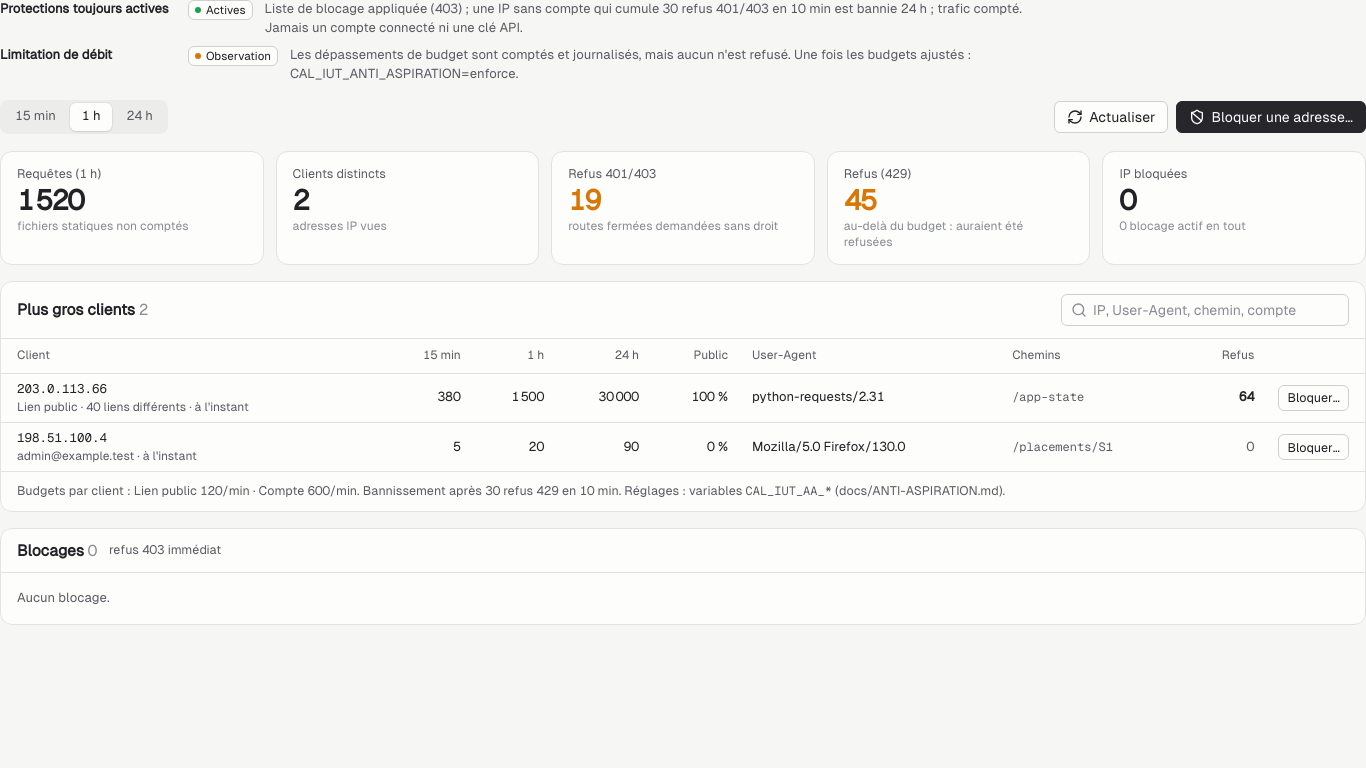
it: TraficView › bloque une IP depuis sa ligne, avec durée et motif
Expected: the text "Observation" is shown, [188,46,278,66]
Click the button with aria-label "Bloquer 203.0.113.66…". click: (1314, 398)
box: [1278,385,1349,411]
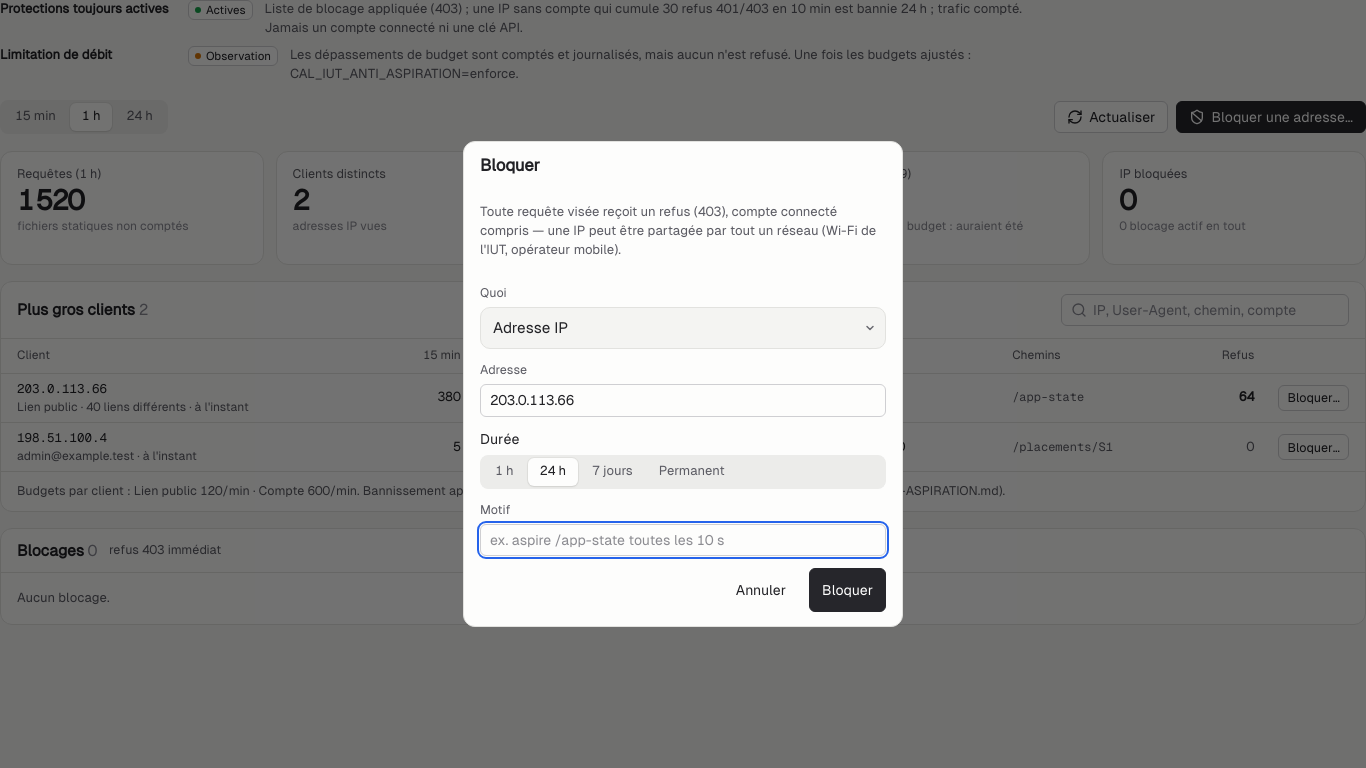
Expected: the field showing "203.0.113.66" is shown, [480,384,886,416]
Click the radio button labelled "7 jours". click: (612, 472)
box: [580,458,645,486]
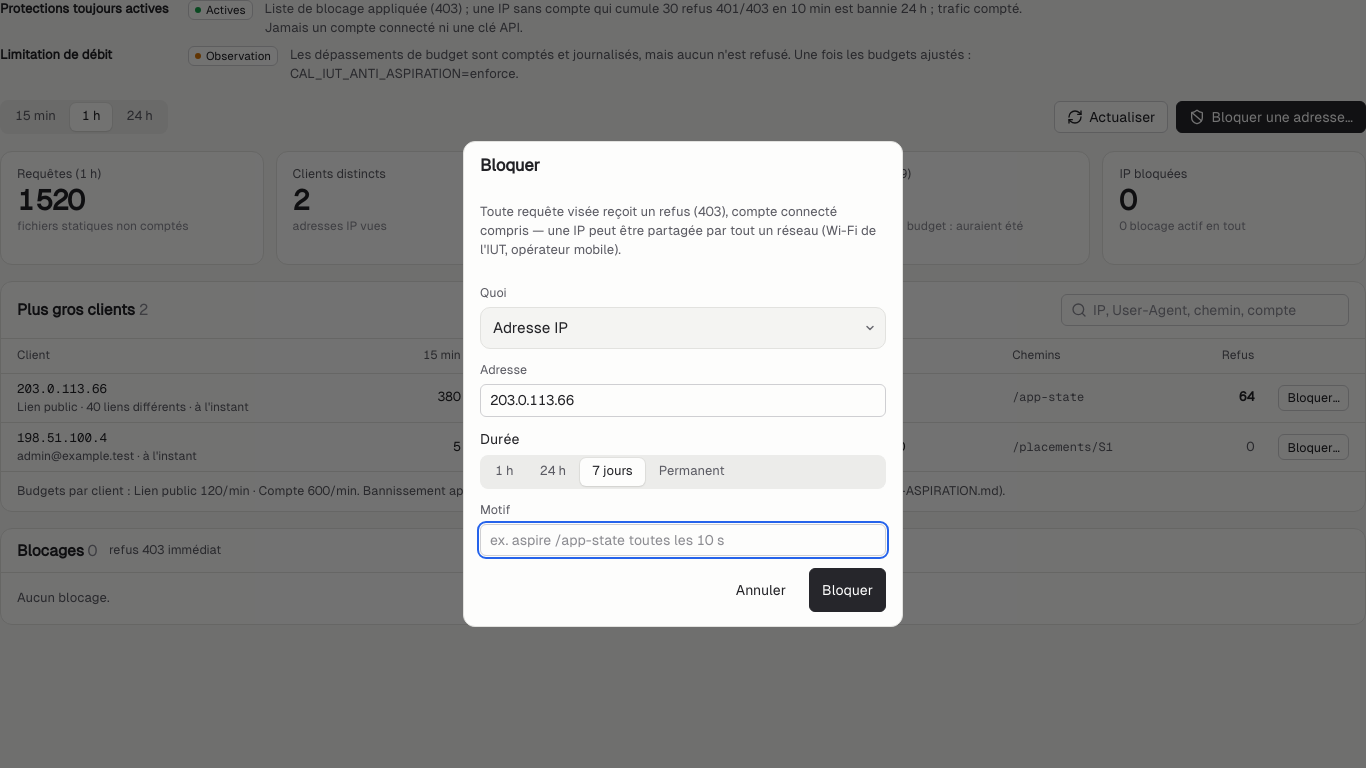
Type "aspire /app-state" into the field labelled "Motif". click: (683, 540)
box: [480,524,886,556]
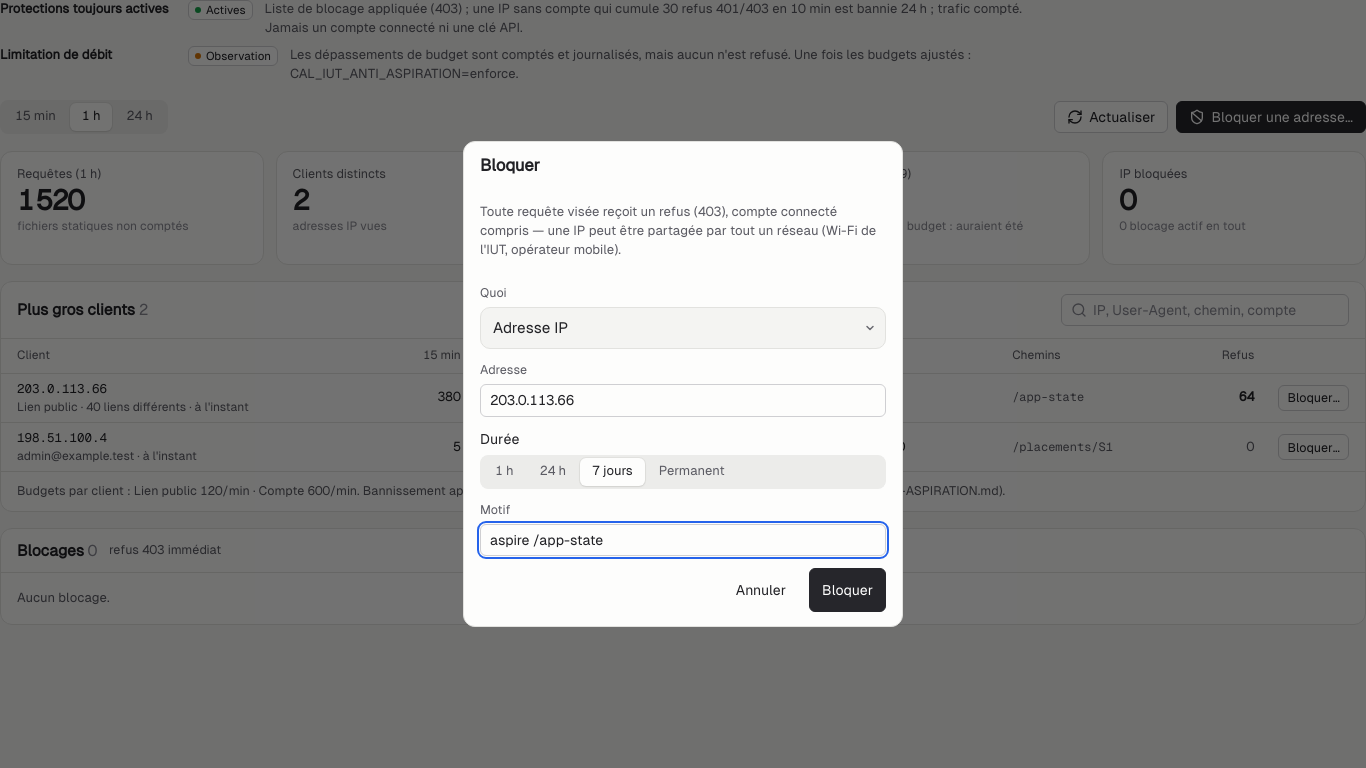
Click the button "Bloquer". click: (848, 590)
box: [809,568,886,612]
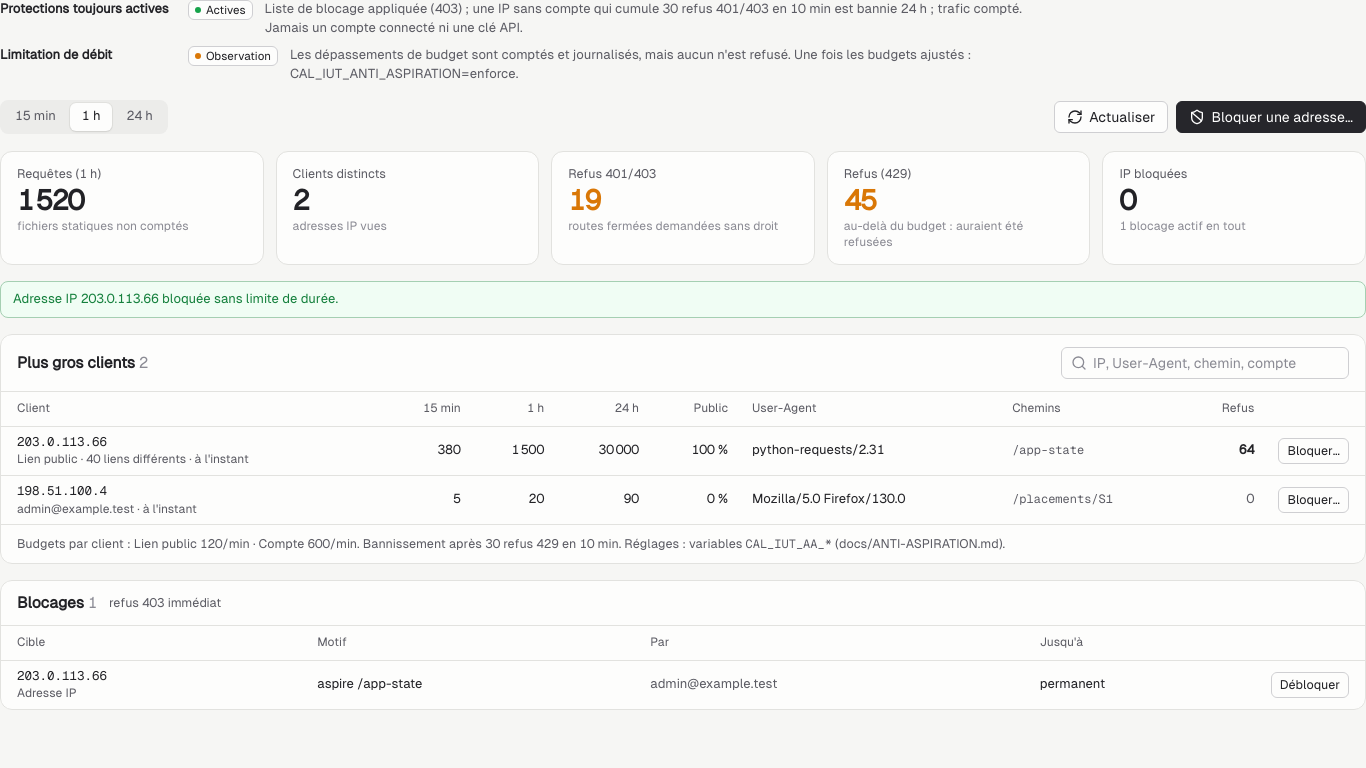
Expected: the dialog is gone
Expected: the text "Adresse IP 203.0.113.66 bloquée sans limite de durée." is shown, [0,281,1365,318]
Expected: the button with aria-label "Débloquer 203.0.113.66" is shown, [1271,672,1349,698]
